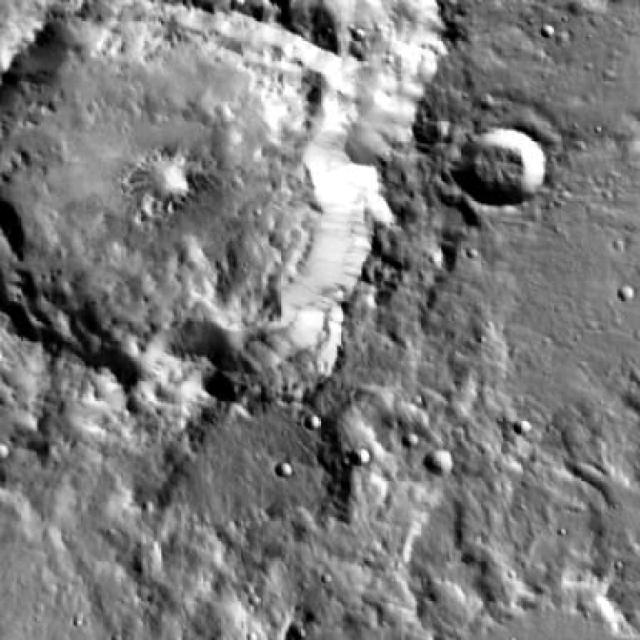crater: (0, 0, 383, 378), (202, 274, 343, 400), (458, 123, 544, 200), (366, 192, 396, 217), (428, 441, 455, 465), (356, 440, 375, 458), (598, 301, 617, 316)
